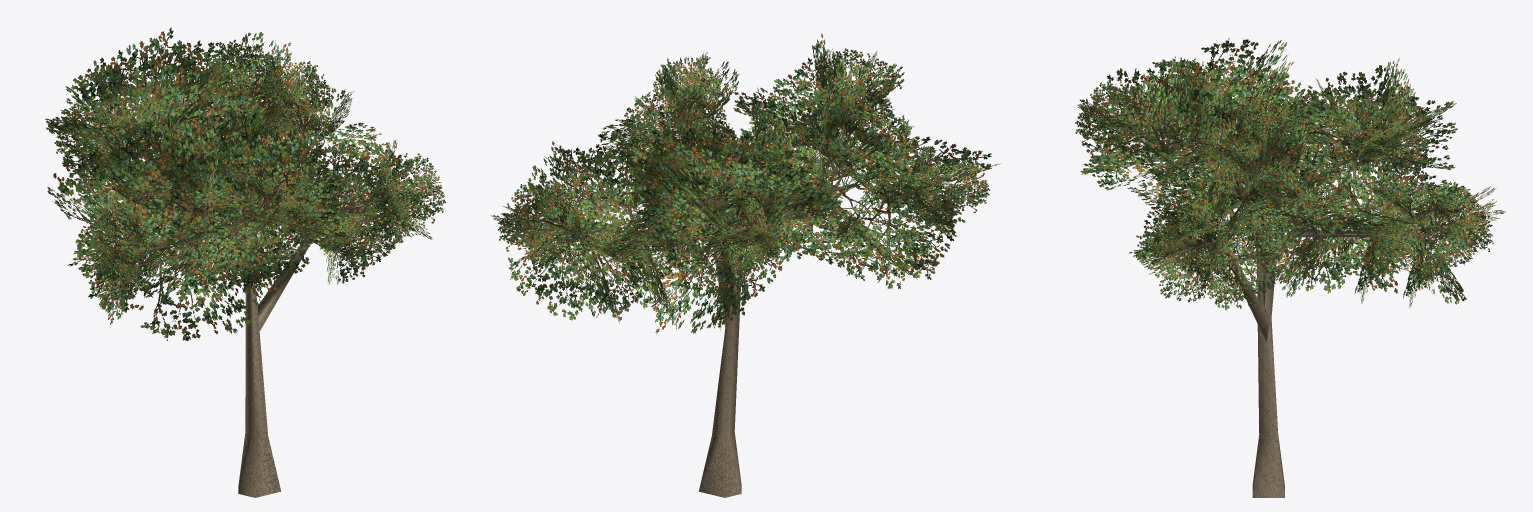
Rendered from decd_mapletreeleaves_a2_l1.fbx.
The picture shows the model from 3 angles, left to right: view 1: azimuth 30°, elevation 25°; view 2: azimuth 150°, elevation 25°; view 3: azimuth 270°, elevation 25°; orthographic projection. The views are drawn at different scales.
Visible parts, largest first — view 1: mesh_node; view 2: mesh_node; view 3: mesh_node.
Boxes of the visible parts, x1,y1,x2,y2 form: mesh_node: [45, 27, 445, 497]; mesh_node: [491, 33, 1000, 497]; mesh_node: [1075, 38, 1505, 497].
Size of the model in its own units: 26.61 by 27.87 by 28.7.
